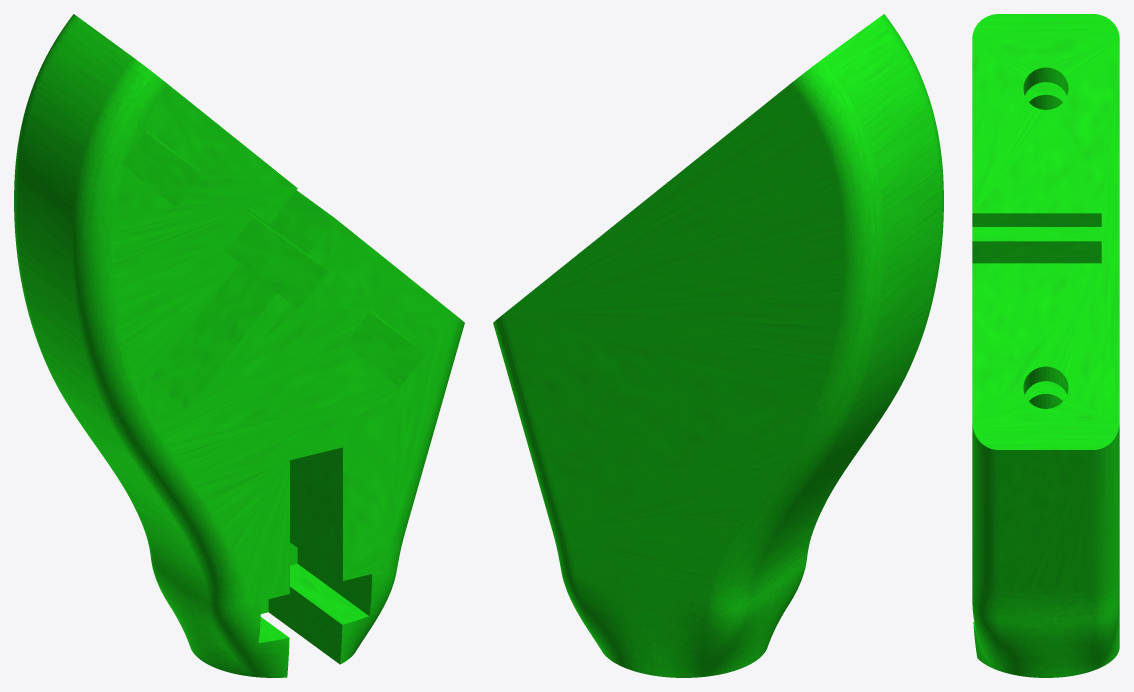
The model's file is xtion45_clip_left.dae.
3 renders of one model, left to right at view 1: azimuth 30°, elevation 25°; view 2: azimuth 150°, elevation 25°; view 3: azimuth 270°, elevation 25°, orthographic. The views are drawn at different scales.
Parts seen in each view (by area): view 1: node; view 2: node; view 3: node.
Boxes of the visible parts, box(x1,y1,x2,y2) form: node: box(14, 14, 464, 677); node: box(493, 14, 943, 677); node: box(972, 14, 1119, 677).
Size of the model in its own units: 29.37 by 46.73 by 11.11.
Materials: 1 (1 with a texture image).
